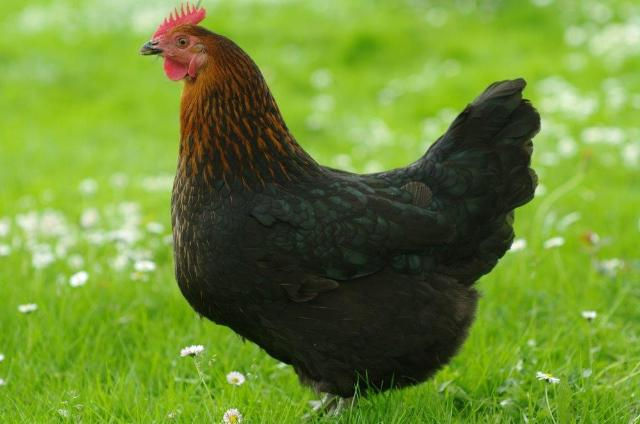Chicken: (139, 0, 542, 422)
